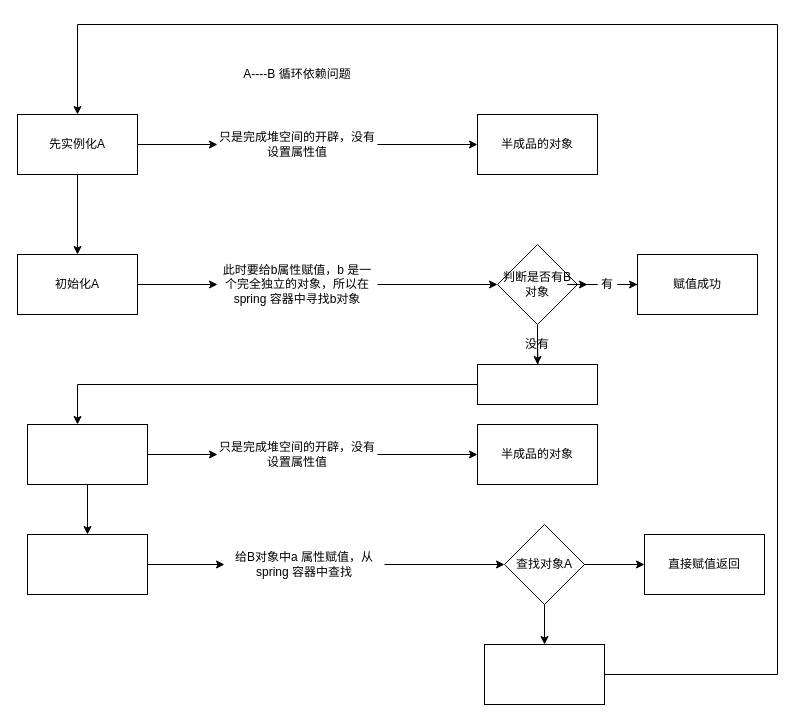
This 803x722 diagram has some shape labels left out. Here are the shapes that lost their labels. From the top down, the centre of each, then its label:
At [537,384]: "完成B对象的实例化".
At [87,454]: "实例化B".
At [87,564]: "初始化B".
At [544,674]: "再去实例化A".
